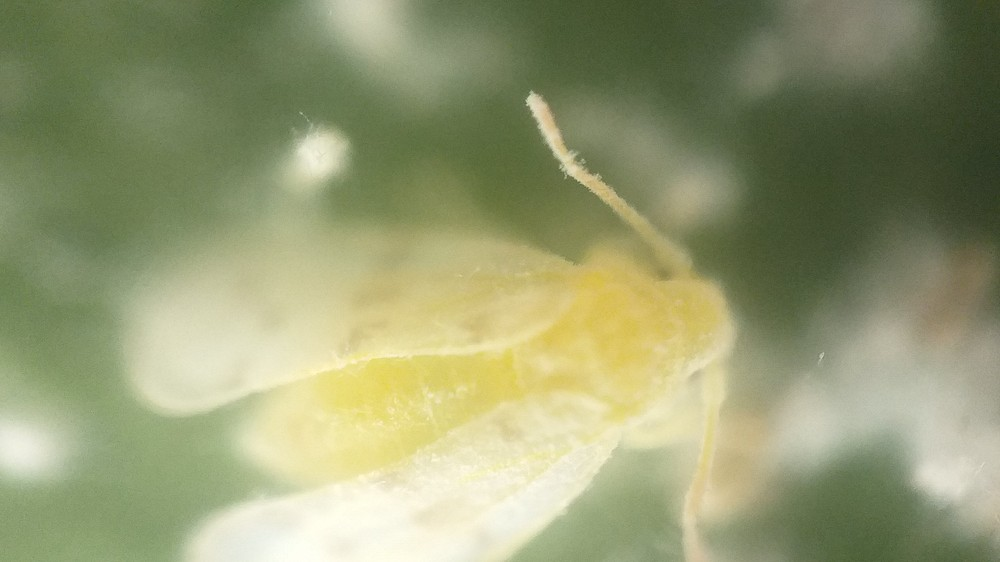Mosca Blanca: (91, 86, 742, 562)
